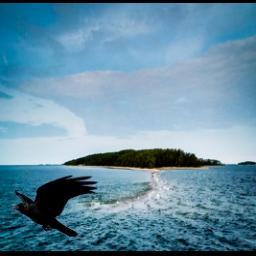Crow: (10, 175, 98, 238)
